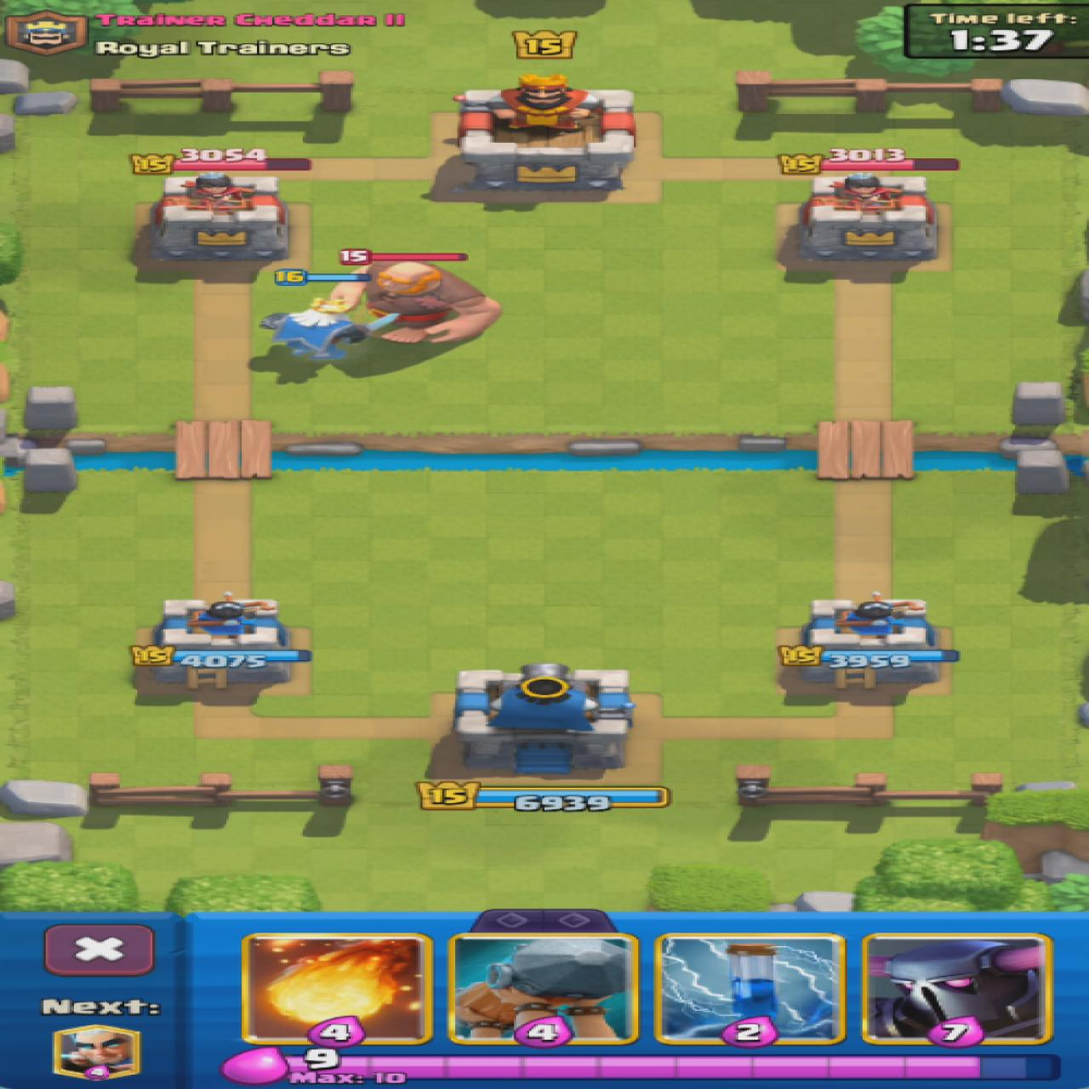Enemy-Giant: (331, 262, 499, 341)
Enemy-KingTower: (457, 76, 634, 192)
Enemy-PrincessTower: (150, 172, 287, 260), (799, 174, 937, 261)
